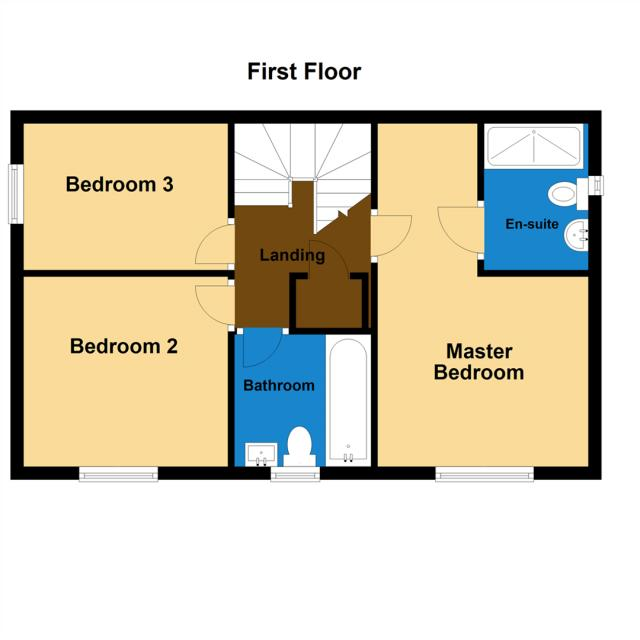DOOR: (434, 203, 488, 258), (236, 321, 286, 372), (188, 280, 240, 329), (366, 211, 416, 259), (189, 221, 236, 268)
ROOM: (369, 107, 604, 485), (8, 268, 238, 483), (6, 108, 235, 279)
WINDOW: (431, 463, 539, 485), (73, 462, 160, 486), (5, 162, 27, 231), (268, 463, 322, 485)
